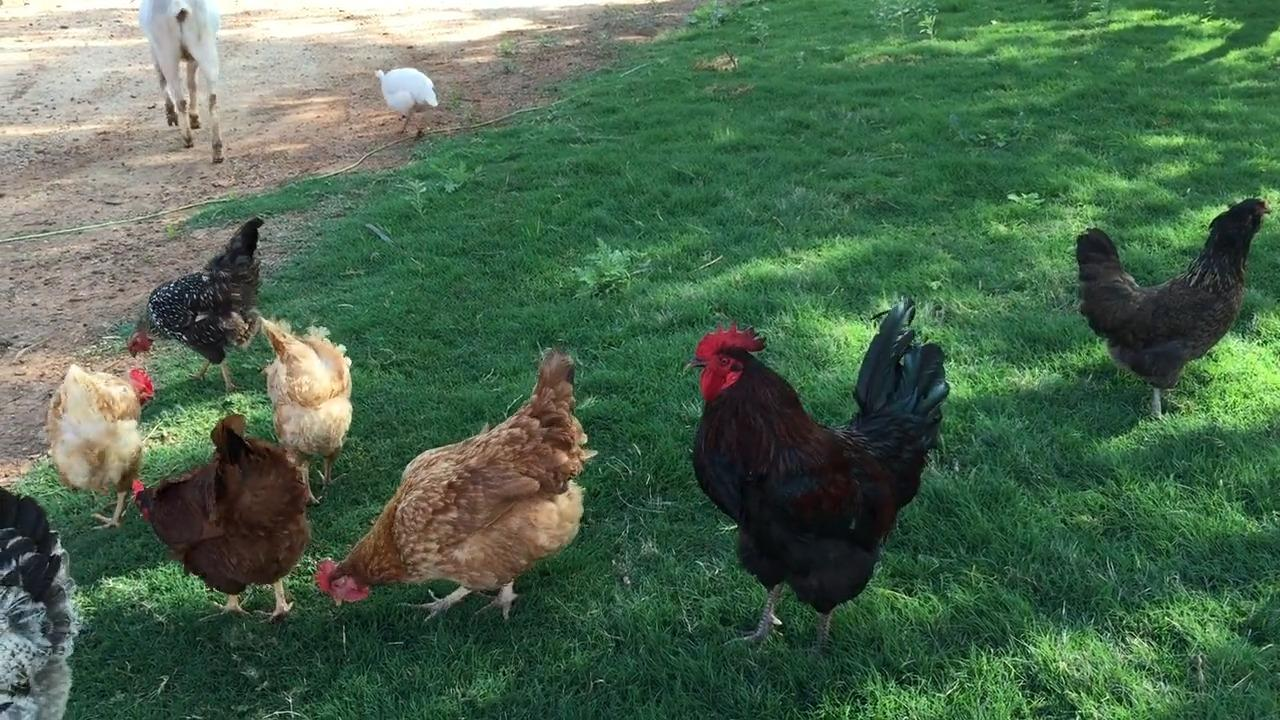Normal: (693, 316, 949, 637), (323, 405, 587, 620), (1076, 200, 1273, 399), (127, 255, 268, 390)
